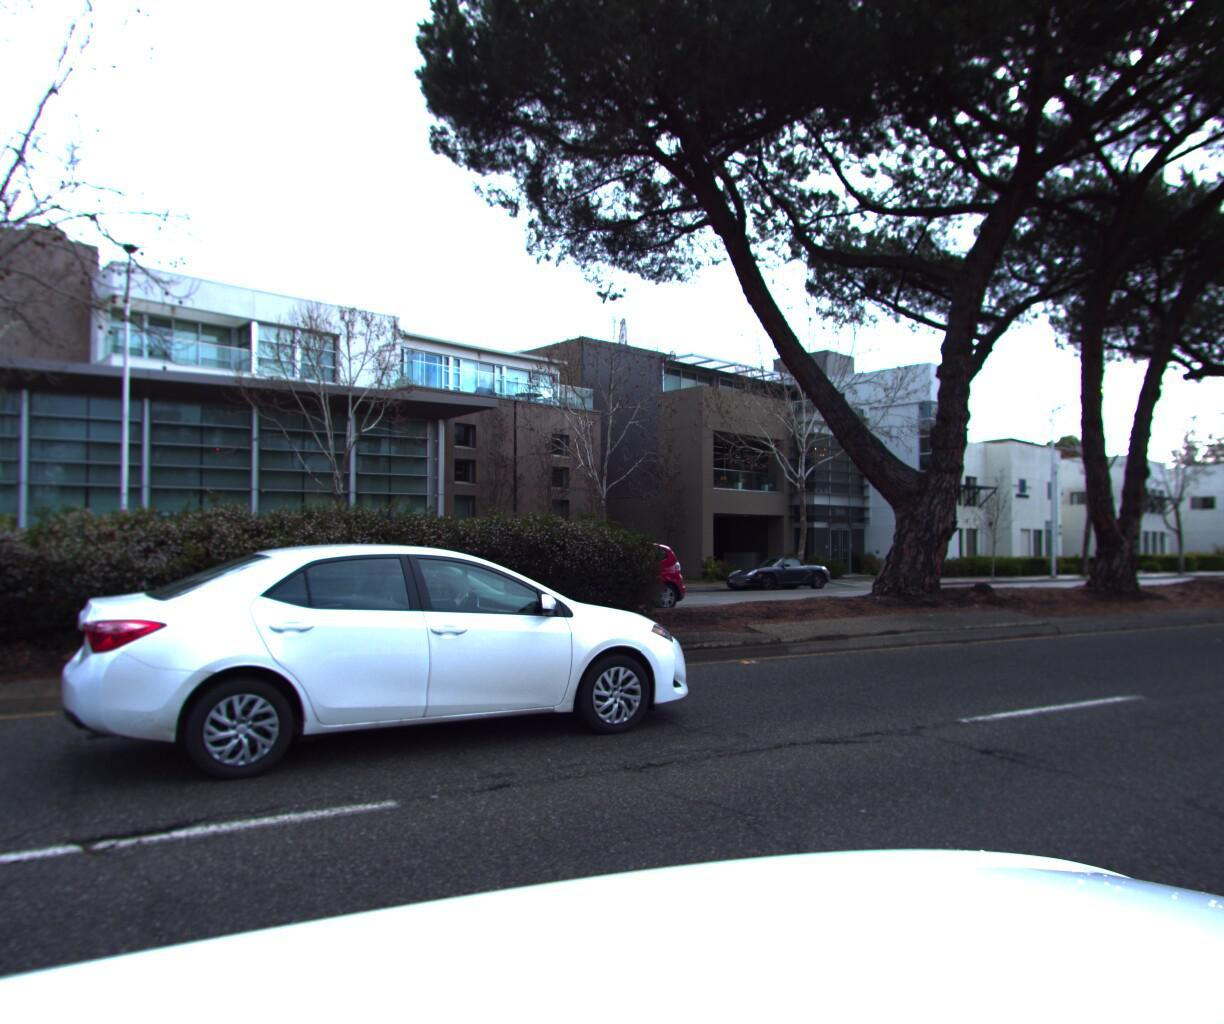car: (81, 529, 711, 809), (466, 545, 698, 619), (714, 562, 835, 603)
